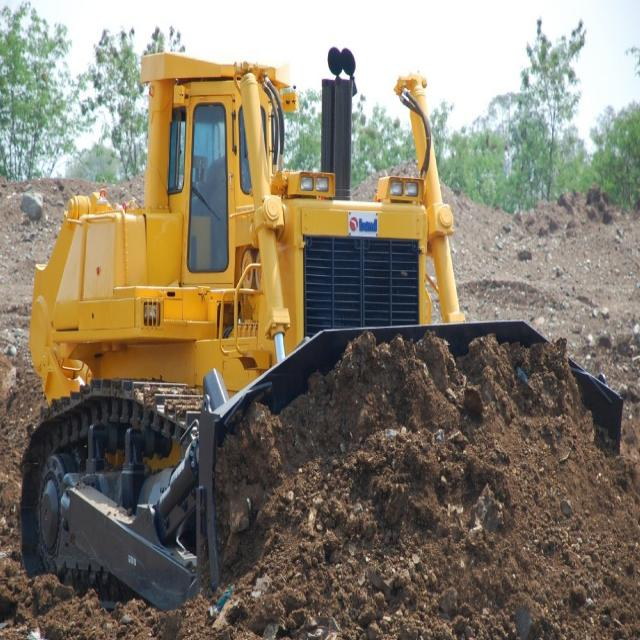buldozerpayloadergrader: (32, 46, 631, 616)
